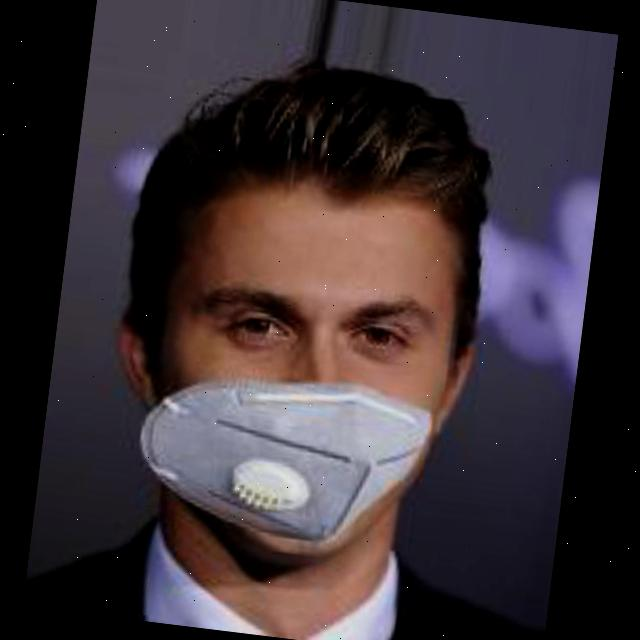suspicion: (119, 63, 487, 561)
